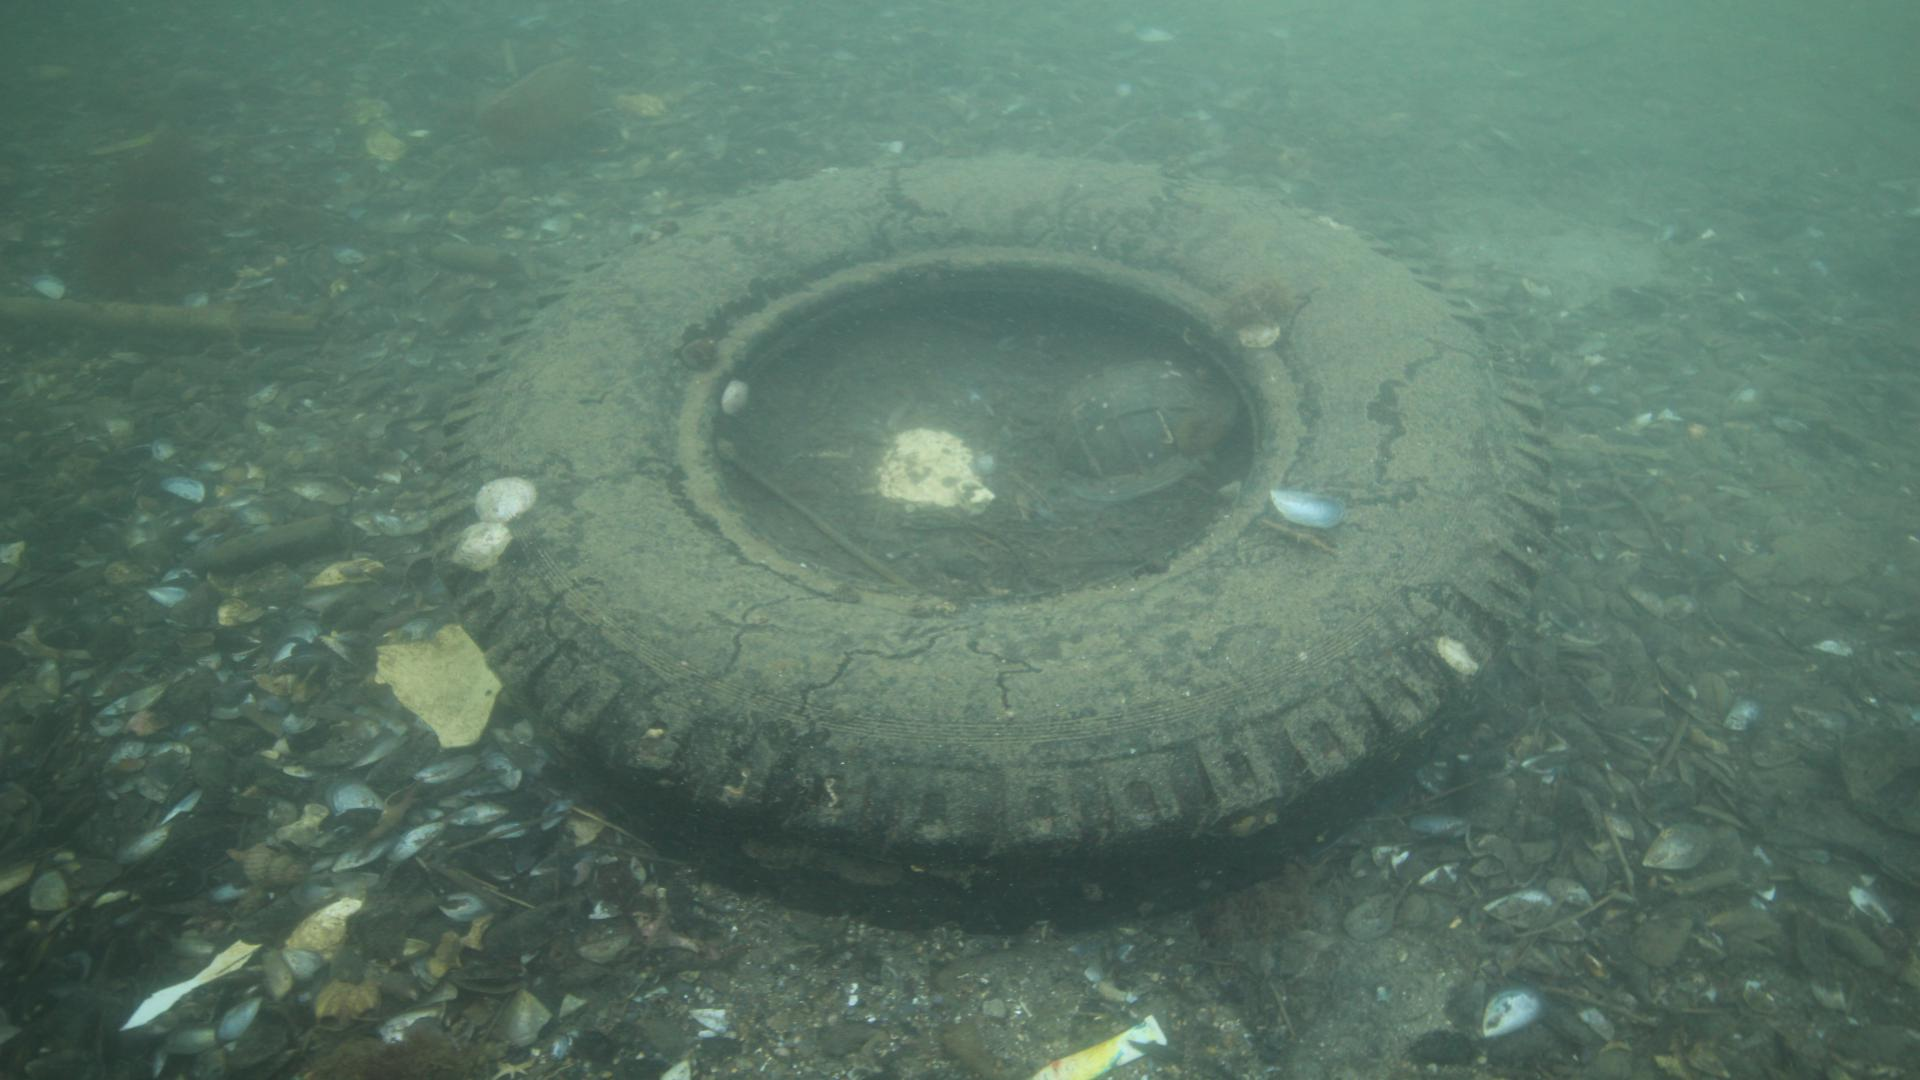tire: (423, 145, 1559, 935)
